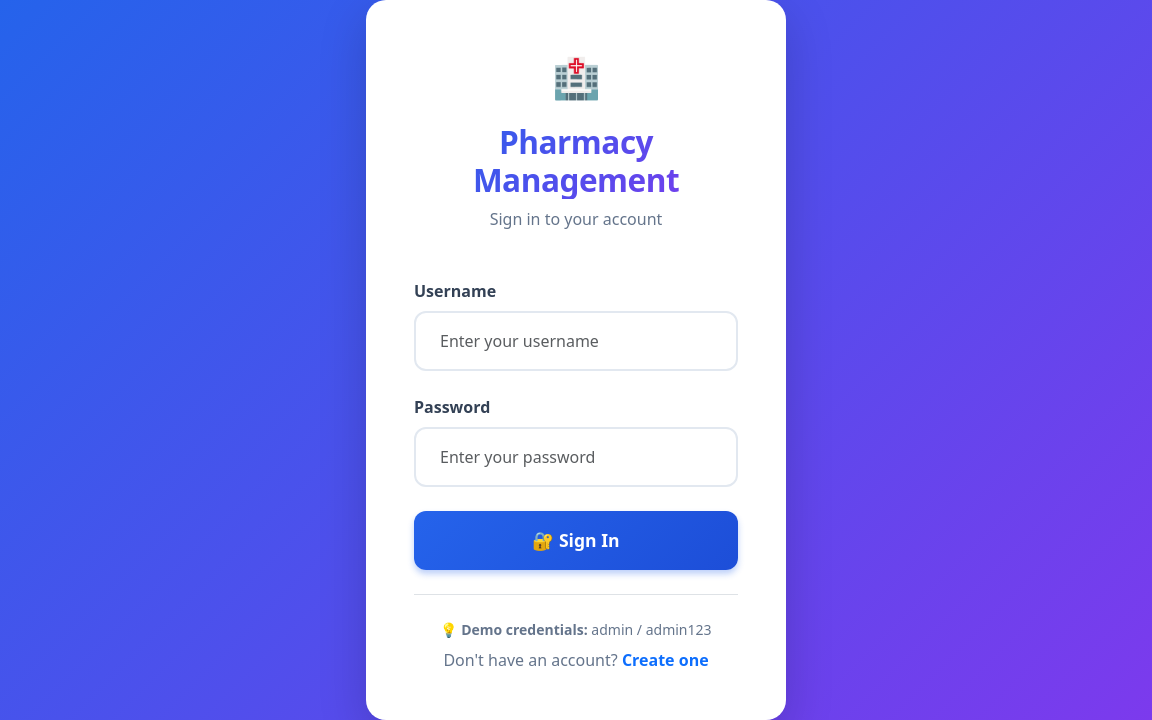
Test case: Login Page - FIXED Tests › shows network error message
The image size is (1152, 720).
Type "admin" into the field labelled "Username".
click(576, 341); type("admin")  # box top-left (414, 311), bottom-right (738, 371)
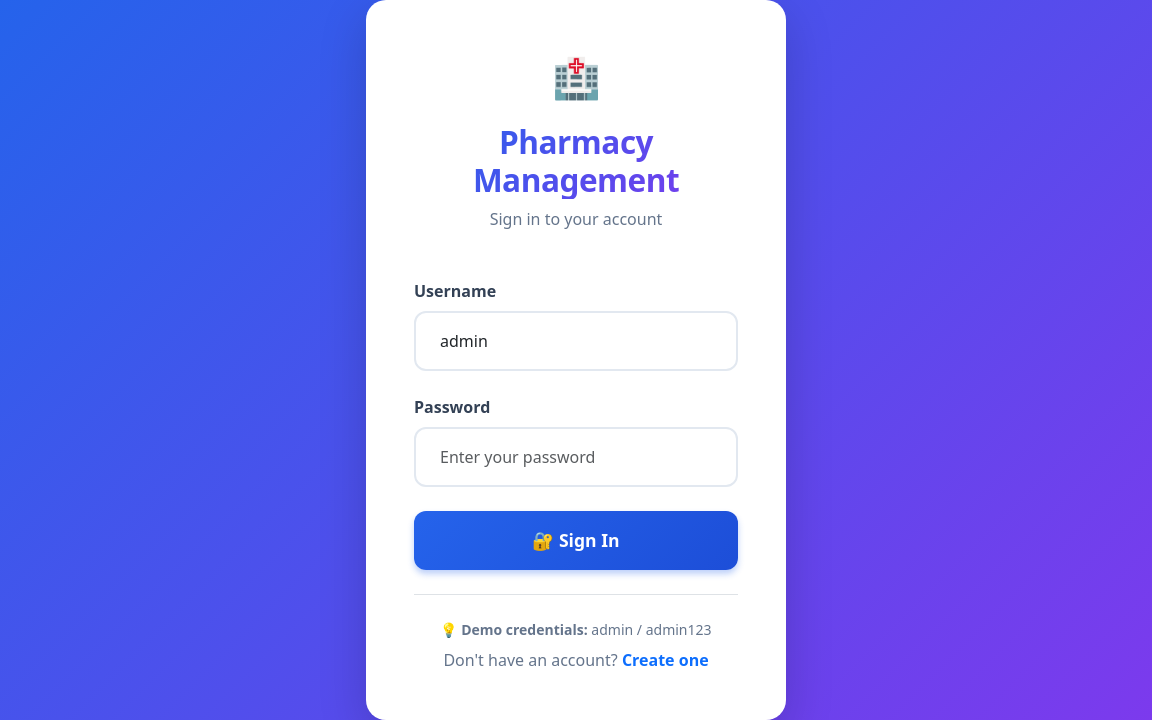
Type "pass" into the password field labelled "Password".
click(576, 457); type("pass")  # box top-left (414, 427), bottom-right (738, 487)
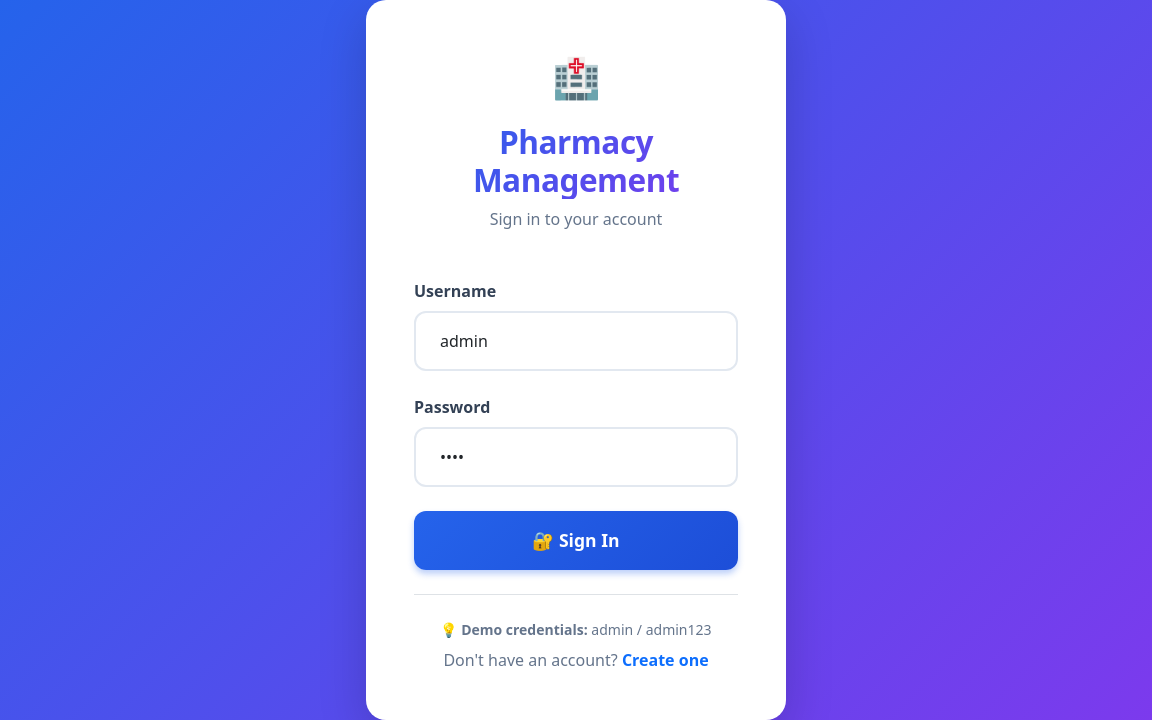
Click the button "🔐 Sign In".
click(576, 540)  # box top-left (414, 511), bottom-right (738, 570)
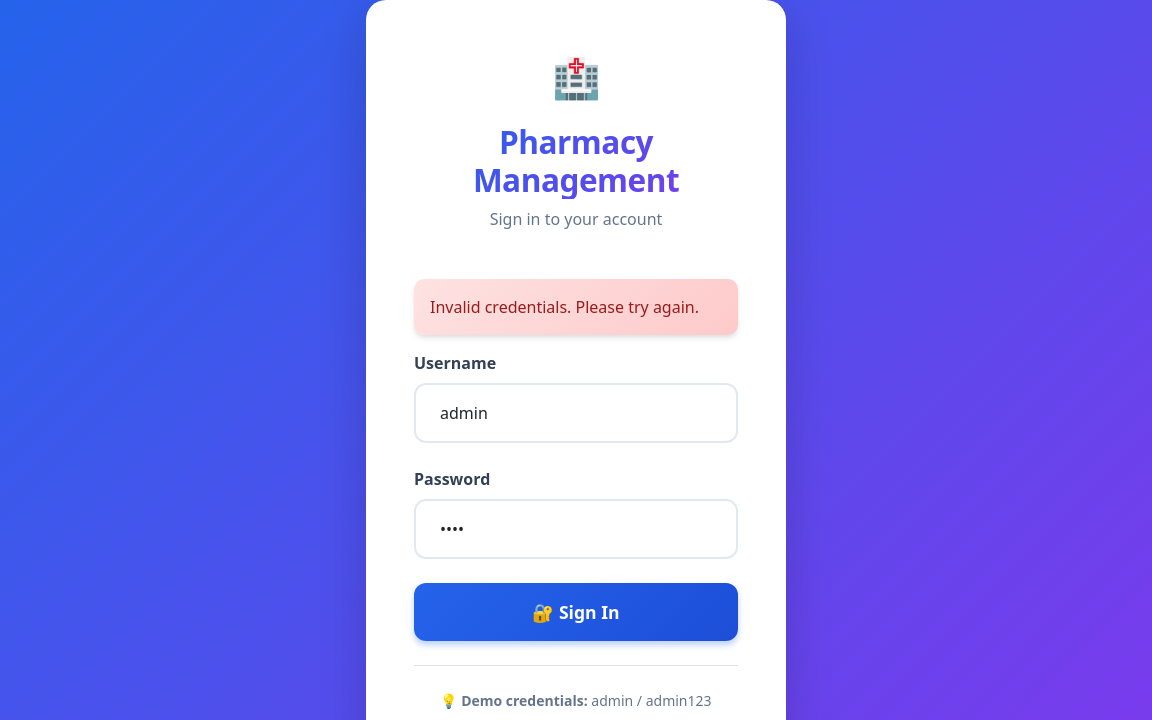
Expected: the text "Invalid credentials. Please try again." is shown, top-left (414, 279), bottom-right (738, 335)
